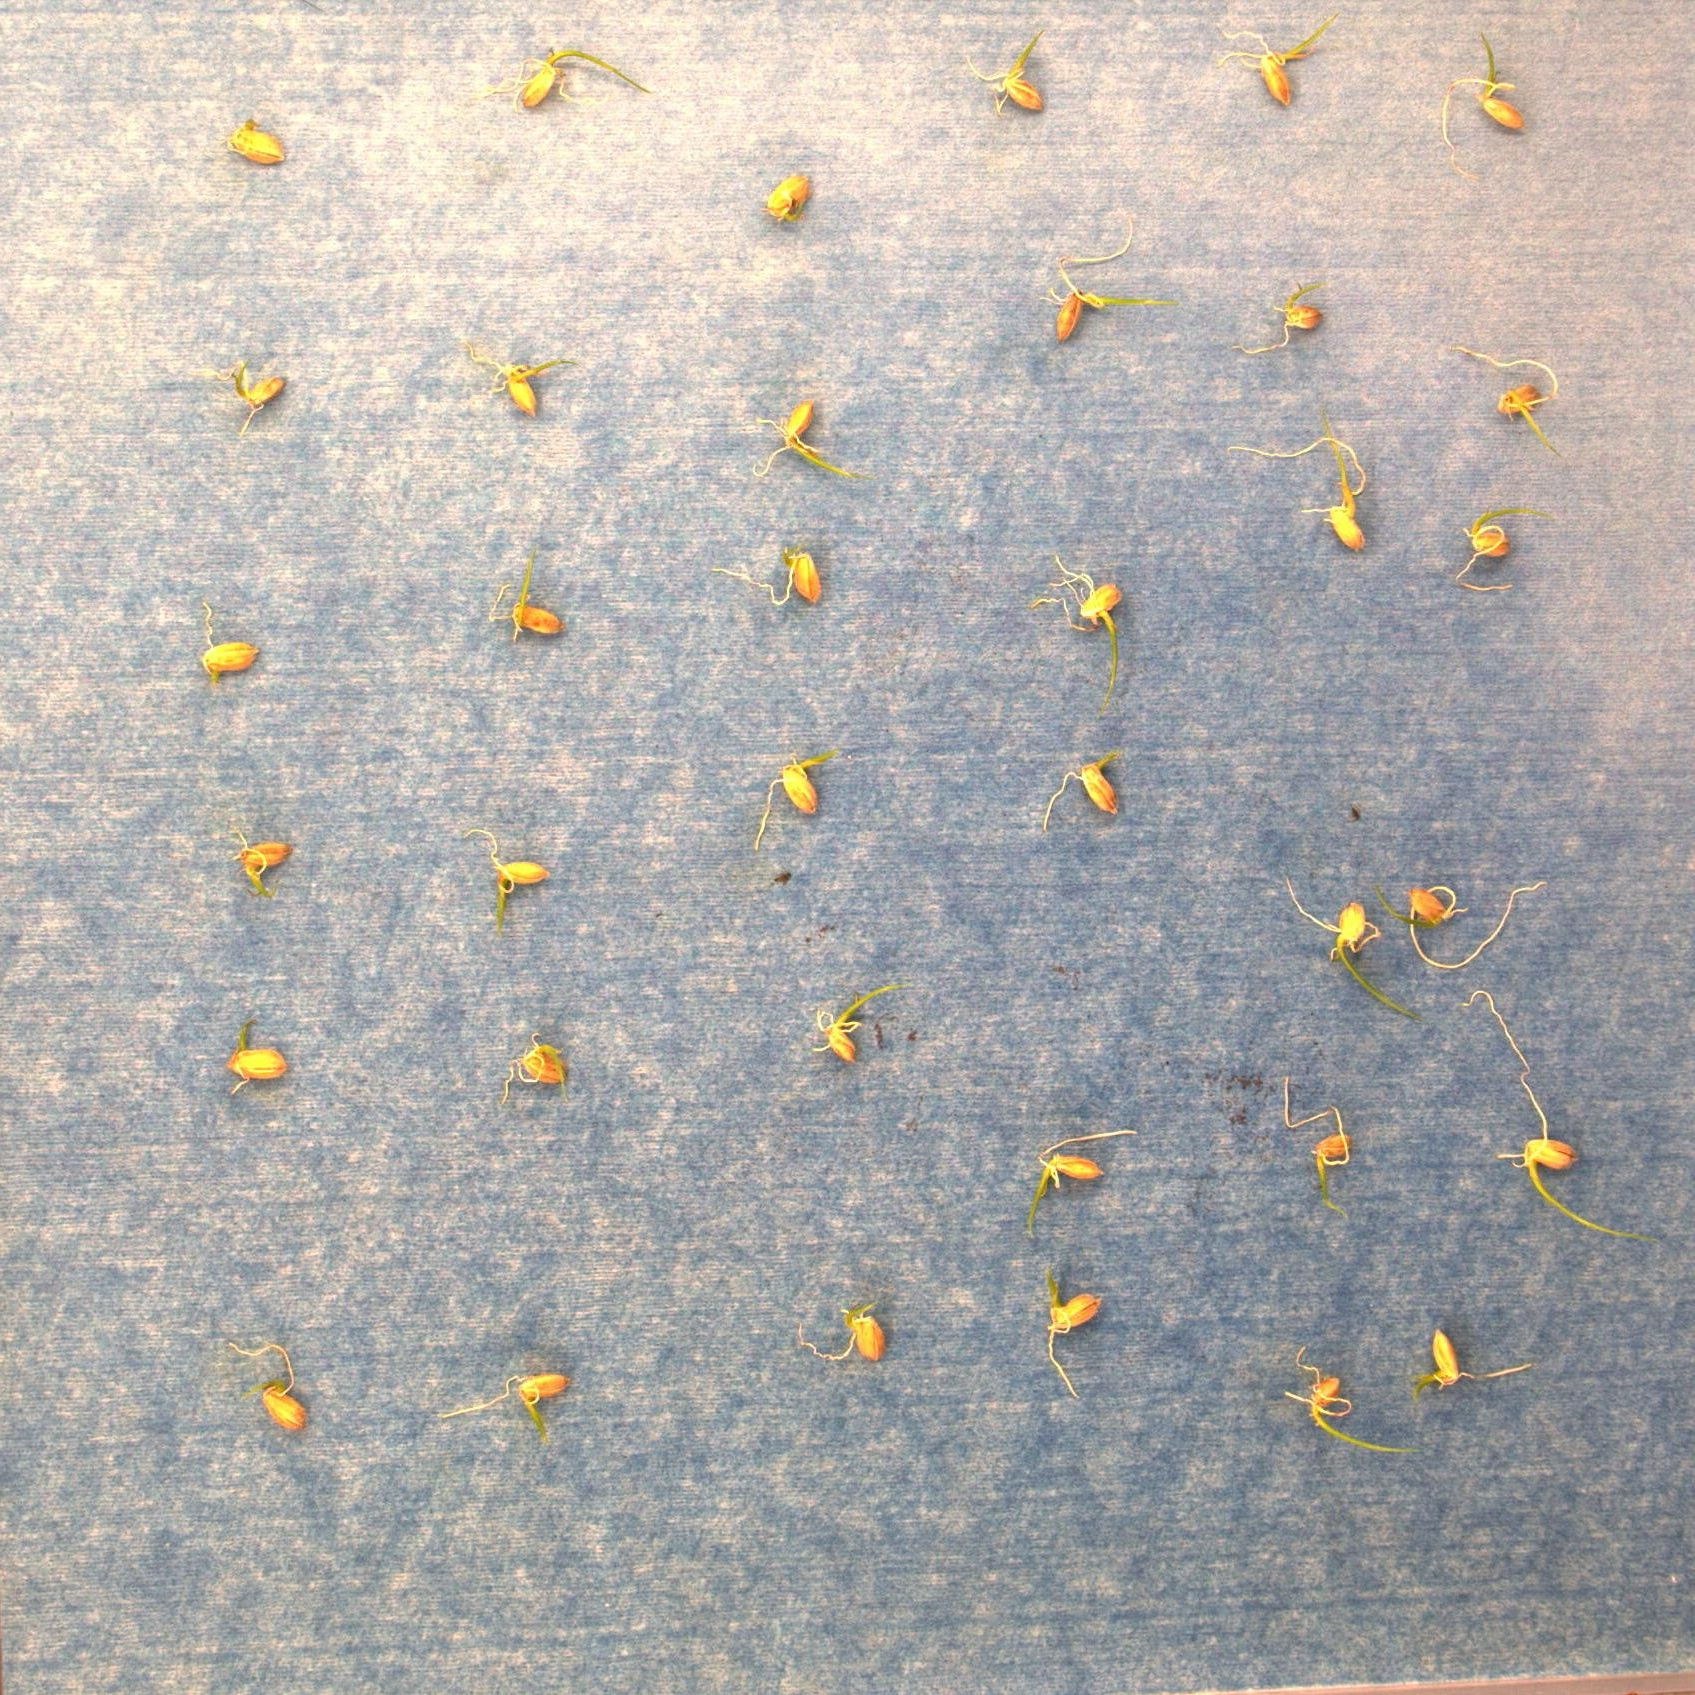not sprout: (224, 118, 286, 165), (764, 172, 816, 227)
sprout: (1461, 990, 1659, 1243), (1226, 404, 1367, 556), (1284, 871, 1423, 1023), (1040, 217, 1173, 345), (1285, 1336, 1425, 1458), (1440, 341, 1571, 466), (1377, 879, 1544, 970), (1028, 551, 1122, 708), (1444, 26, 1524, 185), (1026, 1127, 1138, 1239), (1214, 12, 1340, 106), (456, 827, 553, 941), (1284, 1073, 1357, 1218), (1409, 1324, 1538, 1406), (754, 748, 844, 854), (459, 338, 574, 421), (751, 400, 858, 486), (439, 1372, 567, 1444), (1454, 508, 1560, 593), (512, 48, 653, 110), (1045, 1263, 1105, 1402), (1225, 278, 1332, 355), (813, 979, 914, 1062), (224, 1338, 307, 1431), (709, 539, 824, 605), (486, 546, 567, 641), (1040, 748, 1128, 834), (967, 26, 1048, 112), (213, 357, 290, 445), (798, 1295, 888, 1366), (203, 598, 262, 697), (503, 1034, 577, 1108), (231, 827, 298, 903), (227, 1018, 290, 1093)
